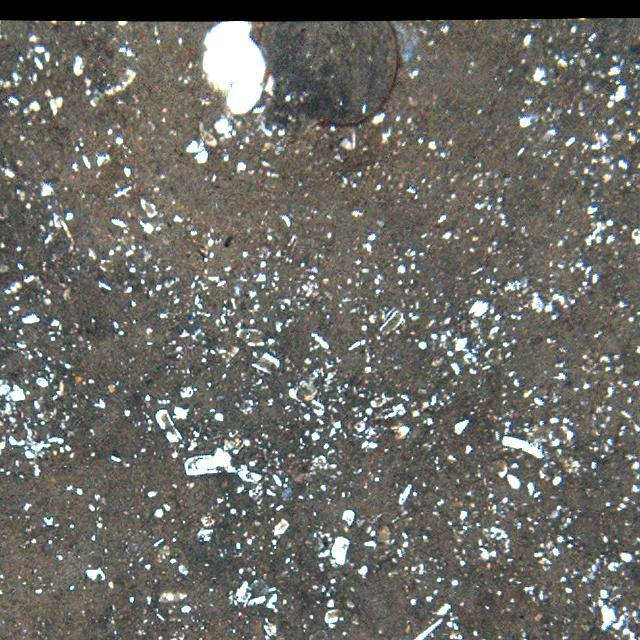scallop: (263, 24, 401, 126)
